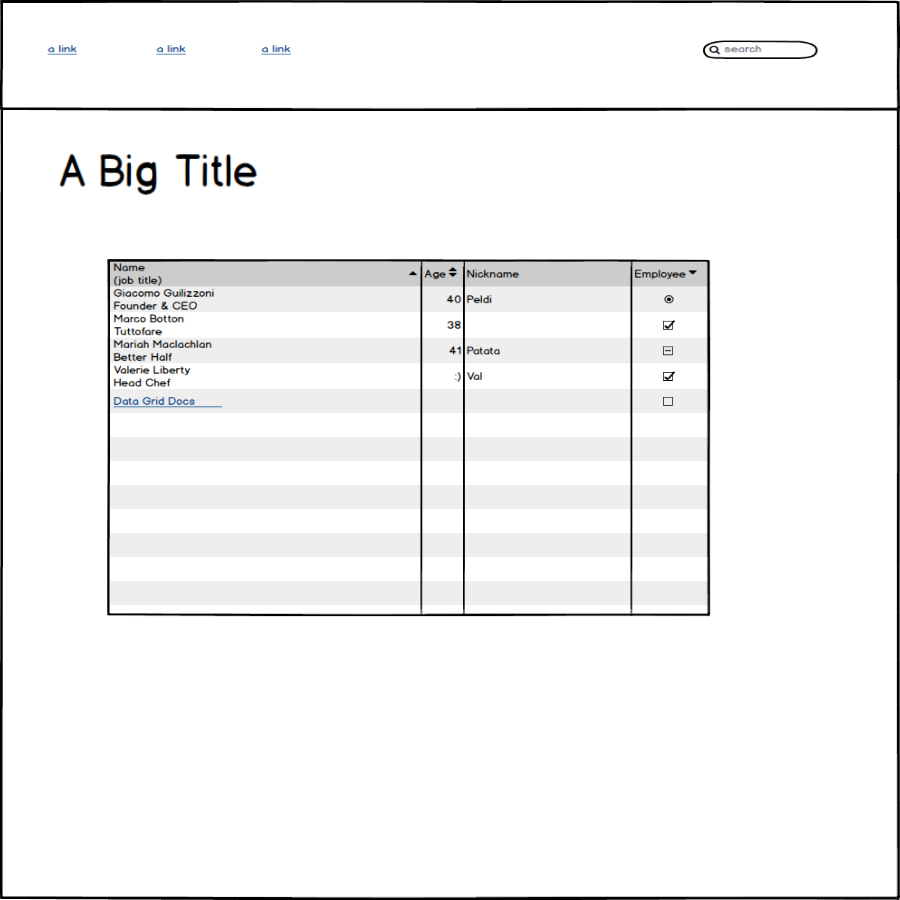h1: (46, 141, 271, 203)
navlink: (252, 30, 308, 74), (141, 34, 204, 67), (42, 34, 82, 60)
search: (696, 30, 827, 66)
table: (101, 252, 722, 626)
